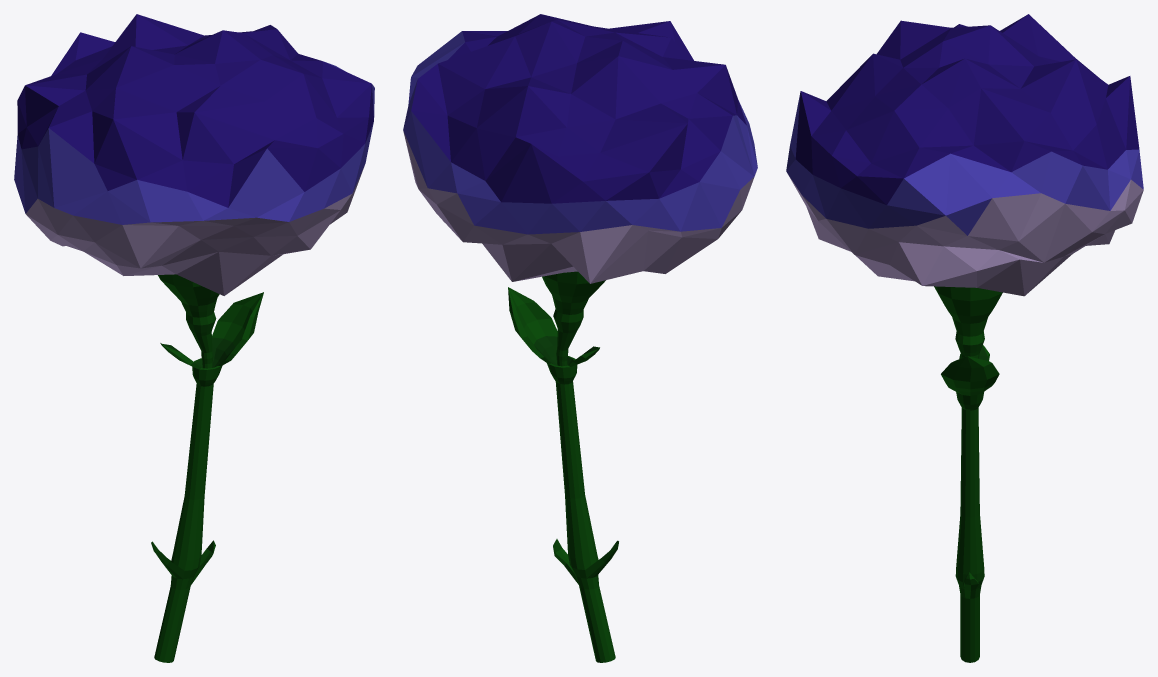
The model's file is Emilia.obj.
3 renders of one model, left to right at view 1: azimuth 30°, elevation 25°; view 2: azimuth 150°, elevation 25°; view 3: azimuth 270°, elevation 25°, orthographic.
Visible parts, largest first — view 1: Cylinder.002_Cylinder; view 2: Cylinder.002_Cylinder; view 3: Cylinder.002_Cylinder.
Part boxes in pixels (bbox=[...]): Cylinder.002_Cylinder: bbox=[14, 14, 374, 662]; Cylinder.002_Cylinder: bbox=[403, 14, 757, 662]; Cylinder.002_Cylinder: bbox=[786, 14, 1143, 662].
Bounding box in the file's own units: 0.6716 × 1.21 × 0.624.
